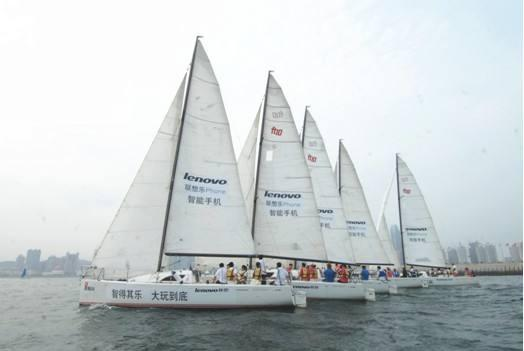fanchuan: (75, 32, 300, 311), (223, 70, 373, 300), (286, 105, 395, 293), (328, 139, 432, 286), (384, 154, 481, 285)
